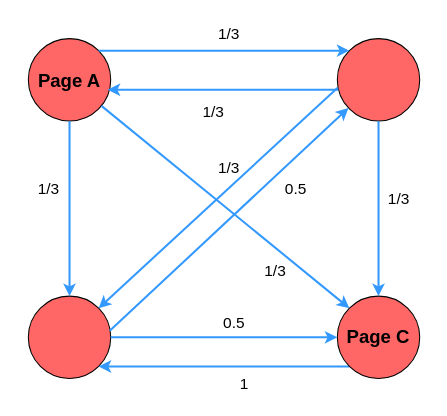
Some shapes in this 447 by 416 pixel diagram are drawn without their labels. The centre of each missing label's shape, as x and y in pixels:
"Page B" belongs at (x=378, y=79).
"Page D" belongs at (x=69, y=337).
